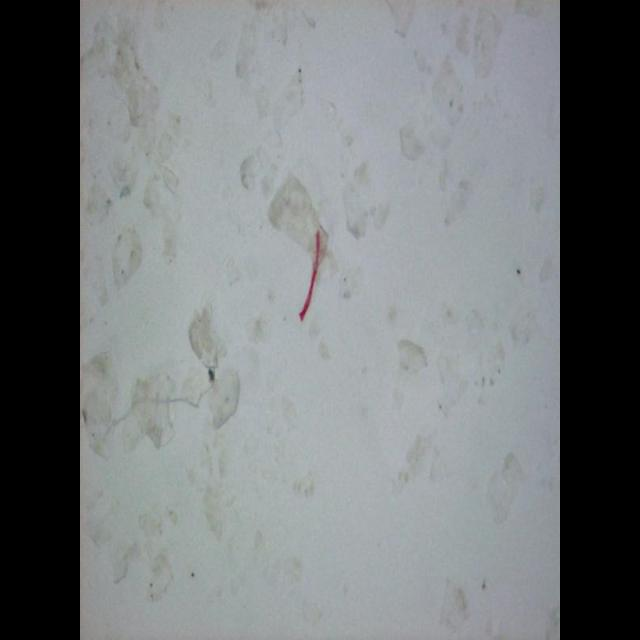Fibre: (297, 220, 327, 330)
